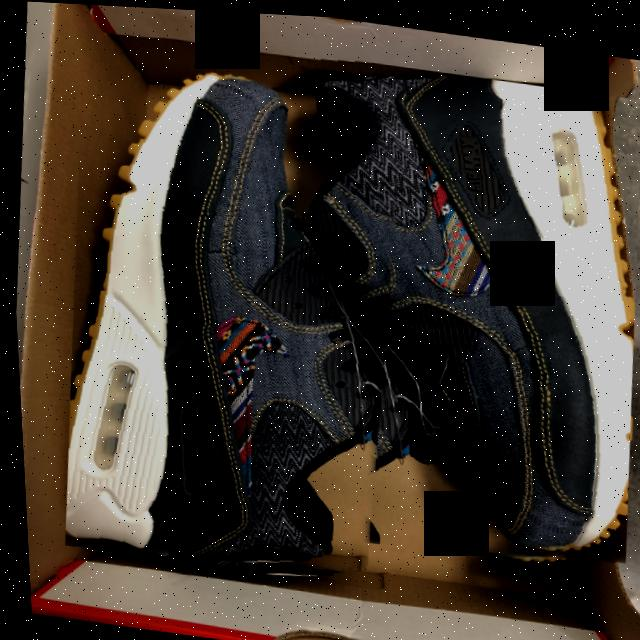shoe: (38, 33, 428, 589), (269, 49, 640, 576)
